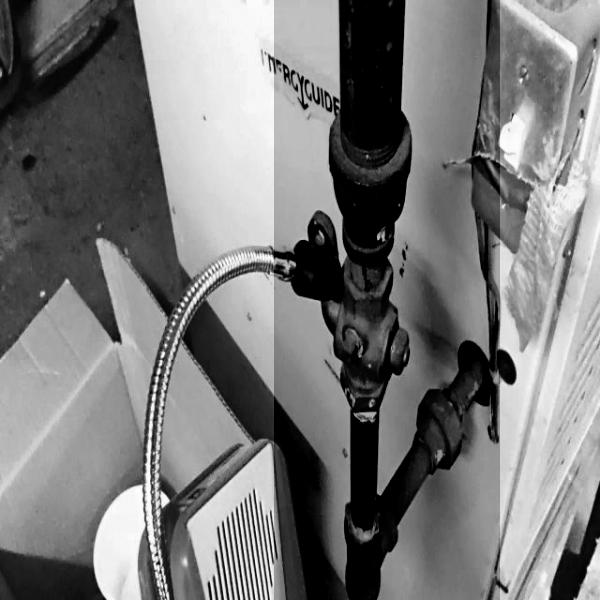no leak: (274, 0, 500, 600)
